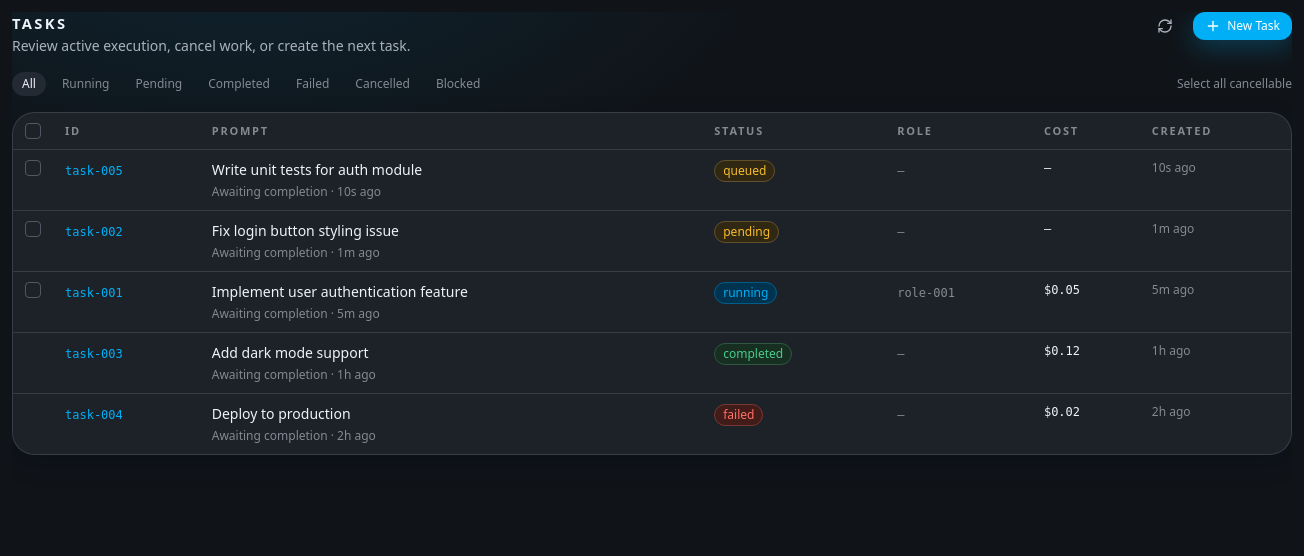
Test: Tasks › should open create form when New Task clicked
Click the button "New Task".
click(1243, 26)  # box top-left (1193, 12), bottom-right (1292, 40)
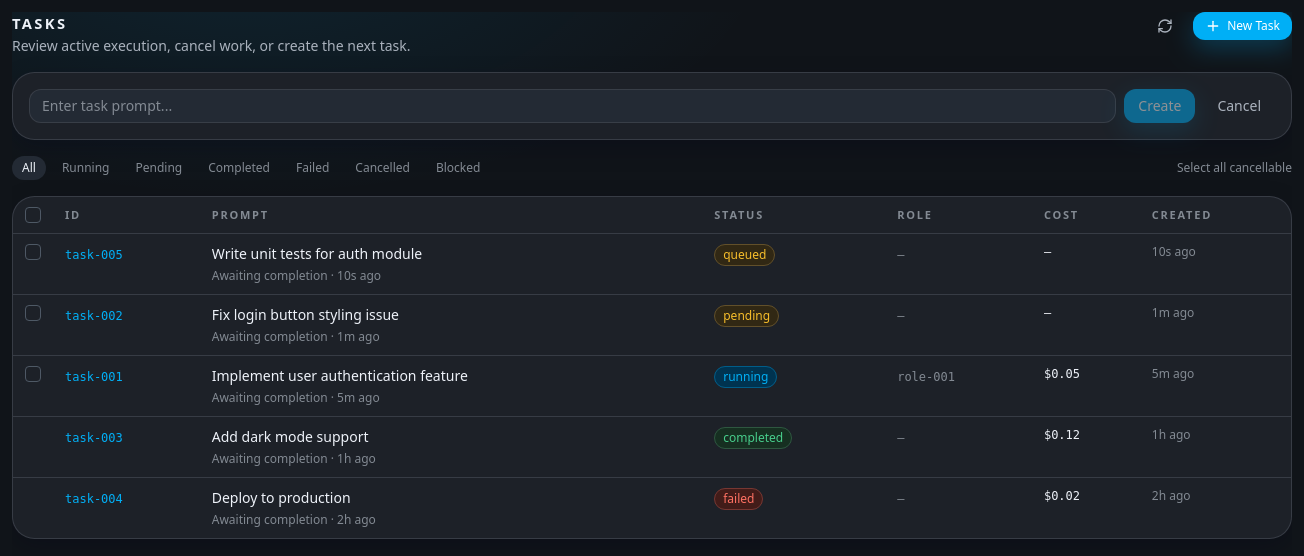
Expected: the field with placeholder "Enter task prompt..." is shown, top-left (29, 89), bottom-right (1116, 123)
Expected: the button "Create" is shown, top-left (1124, 89), bottom-right (1195, 123)
